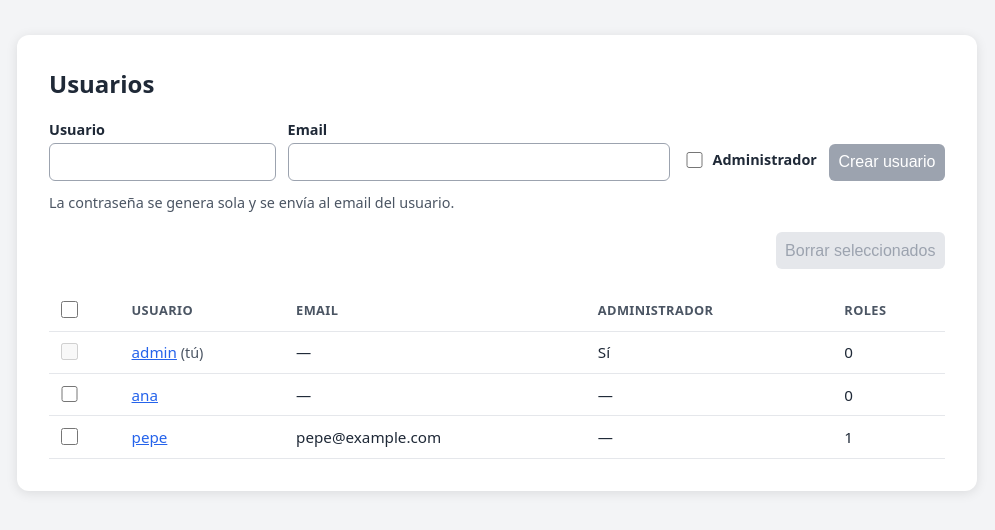
Scenario: Usuarios (listado y alta) › crea un usuario y avisa de que la contraseña va por correo
Expected: the button "Crear usuario" is disabled, [829,144,945,181]
In the field labelled "Usuario": (162, 162) [49,143,276,181], type "lucia"
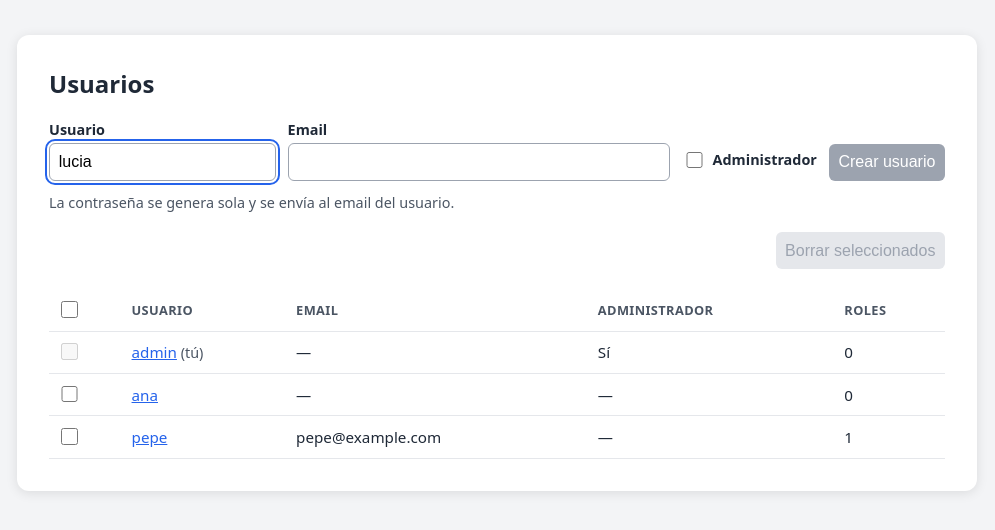
Expected: the button "Crear usuario" is disabled, [829,144,945,181]
In the field labelled "Email": (479, 162) [288,143,670,181], type "lucia@example.com"
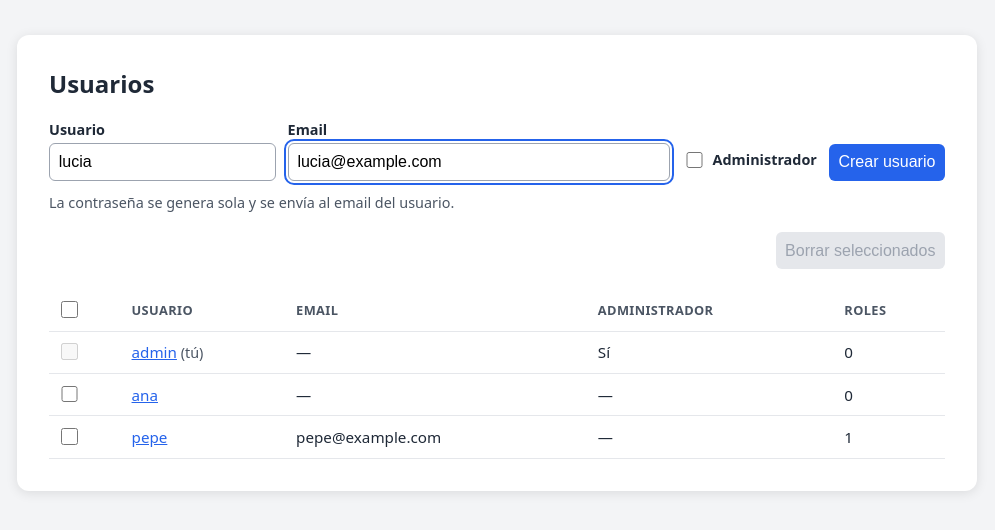
Click the checkbox labelled "Administrador": (695, 160) [686,152,703,168]
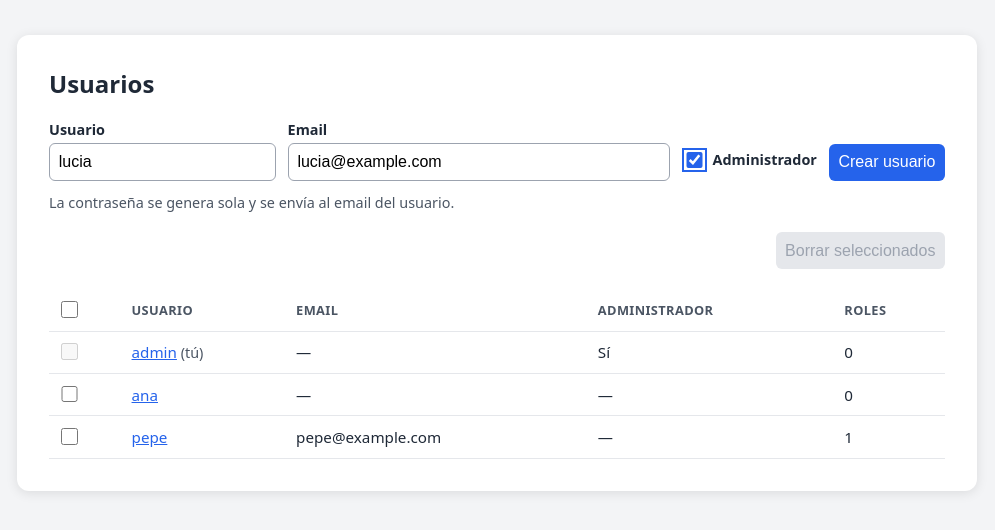
Click the button "Crear usuario": (887, 162) [829,144,945,181]
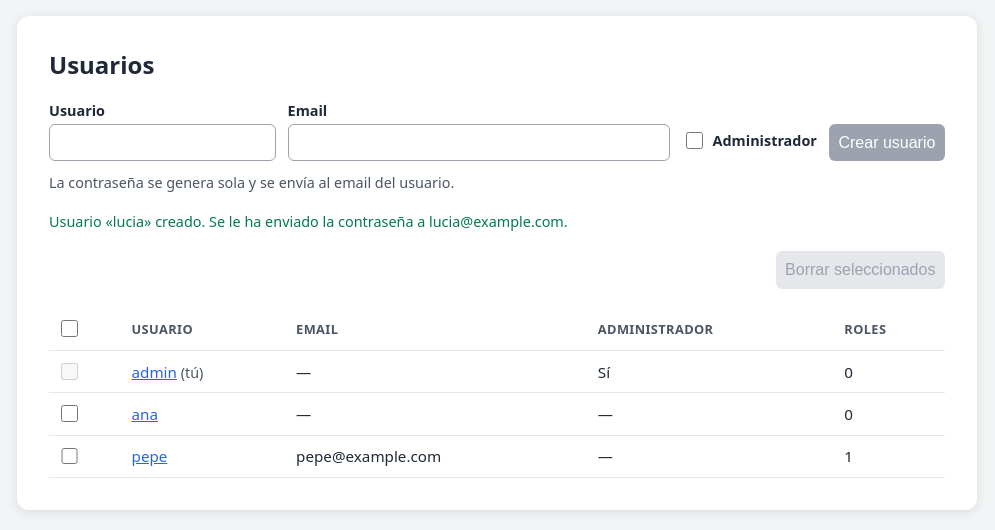
Expected: the message shows "Se le ha enviado la contraseña a lucia@example.com", [49,212,568,231]
Expected: the field labelled "Usuario" is empty, [49,124,276,161]
